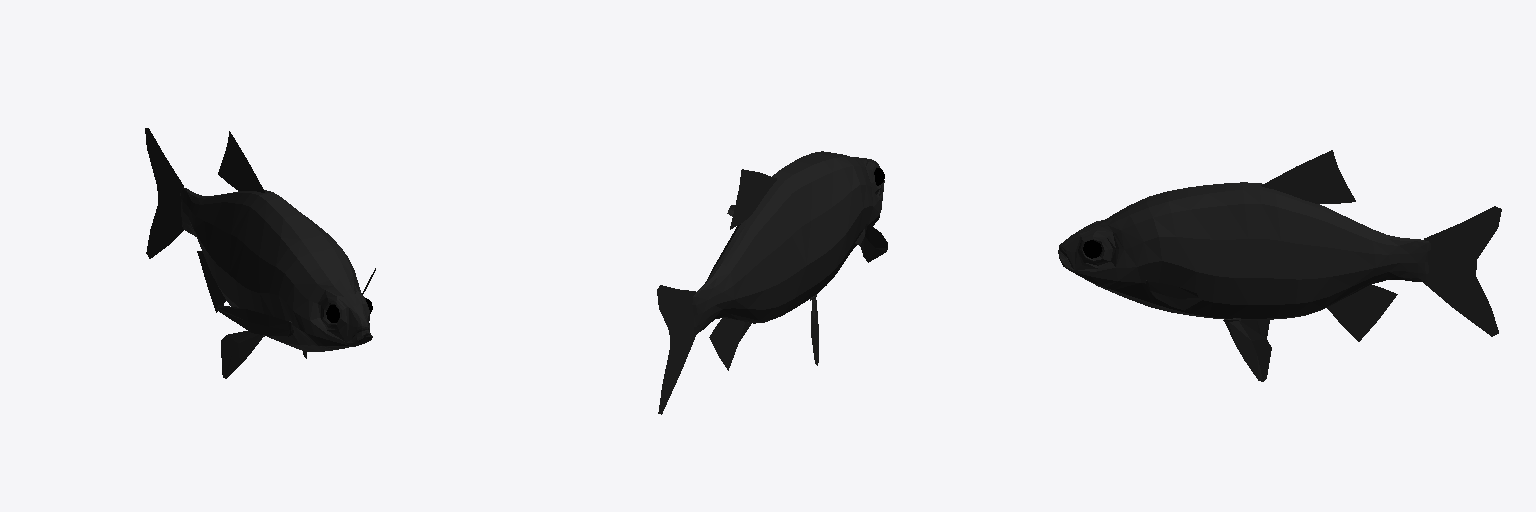
File: scardinius.obj
3 views of the same model, side by side, from view 1: azimuth 30°, elevation 25°; view 2: azimuth 150°, elevation 25°; view 3: azimuth 270°, elevation 25° (orthographic).
Visible parts, largest first — view 1: Sardinicus; view 2: Sardinicus; view 3: Sardinicus.
Boxes of the visible parts, <box> form: Sardinicus: <box>145,128,375,378</box>; Sardinicus: <box>657,151,887,414</box>; Sardinicus: <box>1058,150,1501,381</box>.
Bounding box in the file's own units: 4.13 × 5.25 × 9.96.